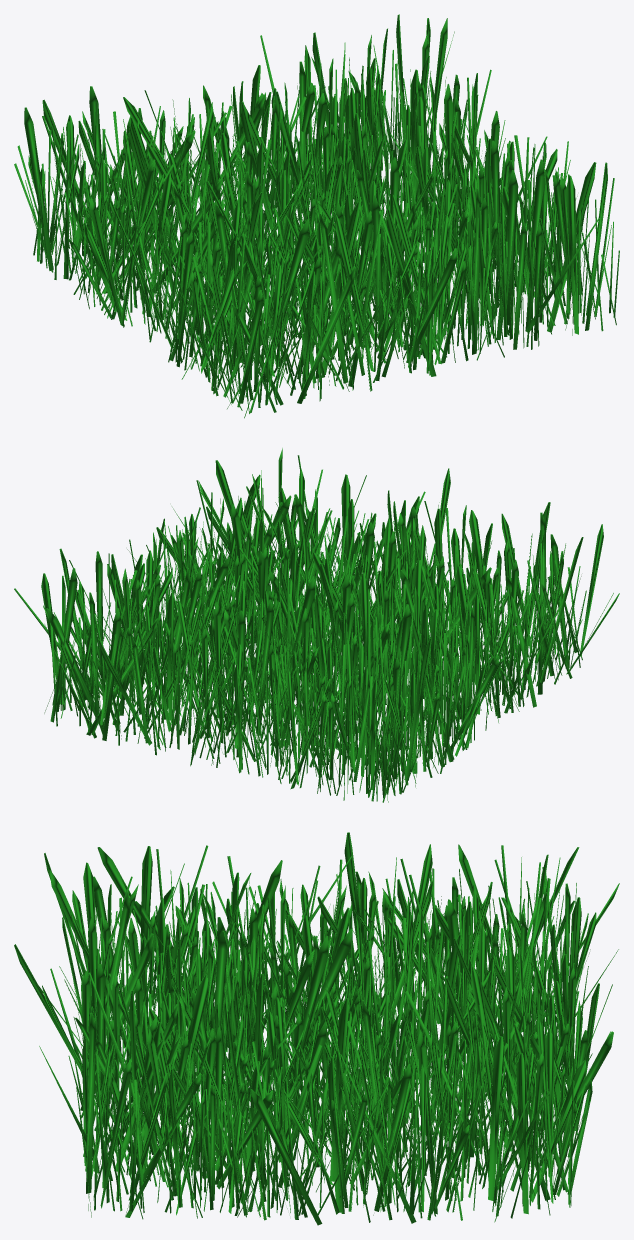
The model's file is grass.dae.
3 views of the same model, one above another, from view 1: azimuth 30°, elevation 25°; view 2: azimuth 150°, elevation 25°; view 3: azimuth 270°, elevation 25° (orthographic). The views are drawn at different scales.
Parts seen in each view (by area): view 1: Mesher01_Mesh.001; view 2: Mesher01_Mesh.001; view 3: Mesher01_Mesh.001.
Part boxes in pixels (x1,y1,x2,y2): Mesher01_Mesh.001: (14, 14, 619, 418); Mesher01_Mesh.001: (14, 448, 619, 802); Mesher01_Mesh.001: (14, 832, 619, 1225).
Bounding box in the file's own units: 2.45 × 2.49 × 0.9161.
